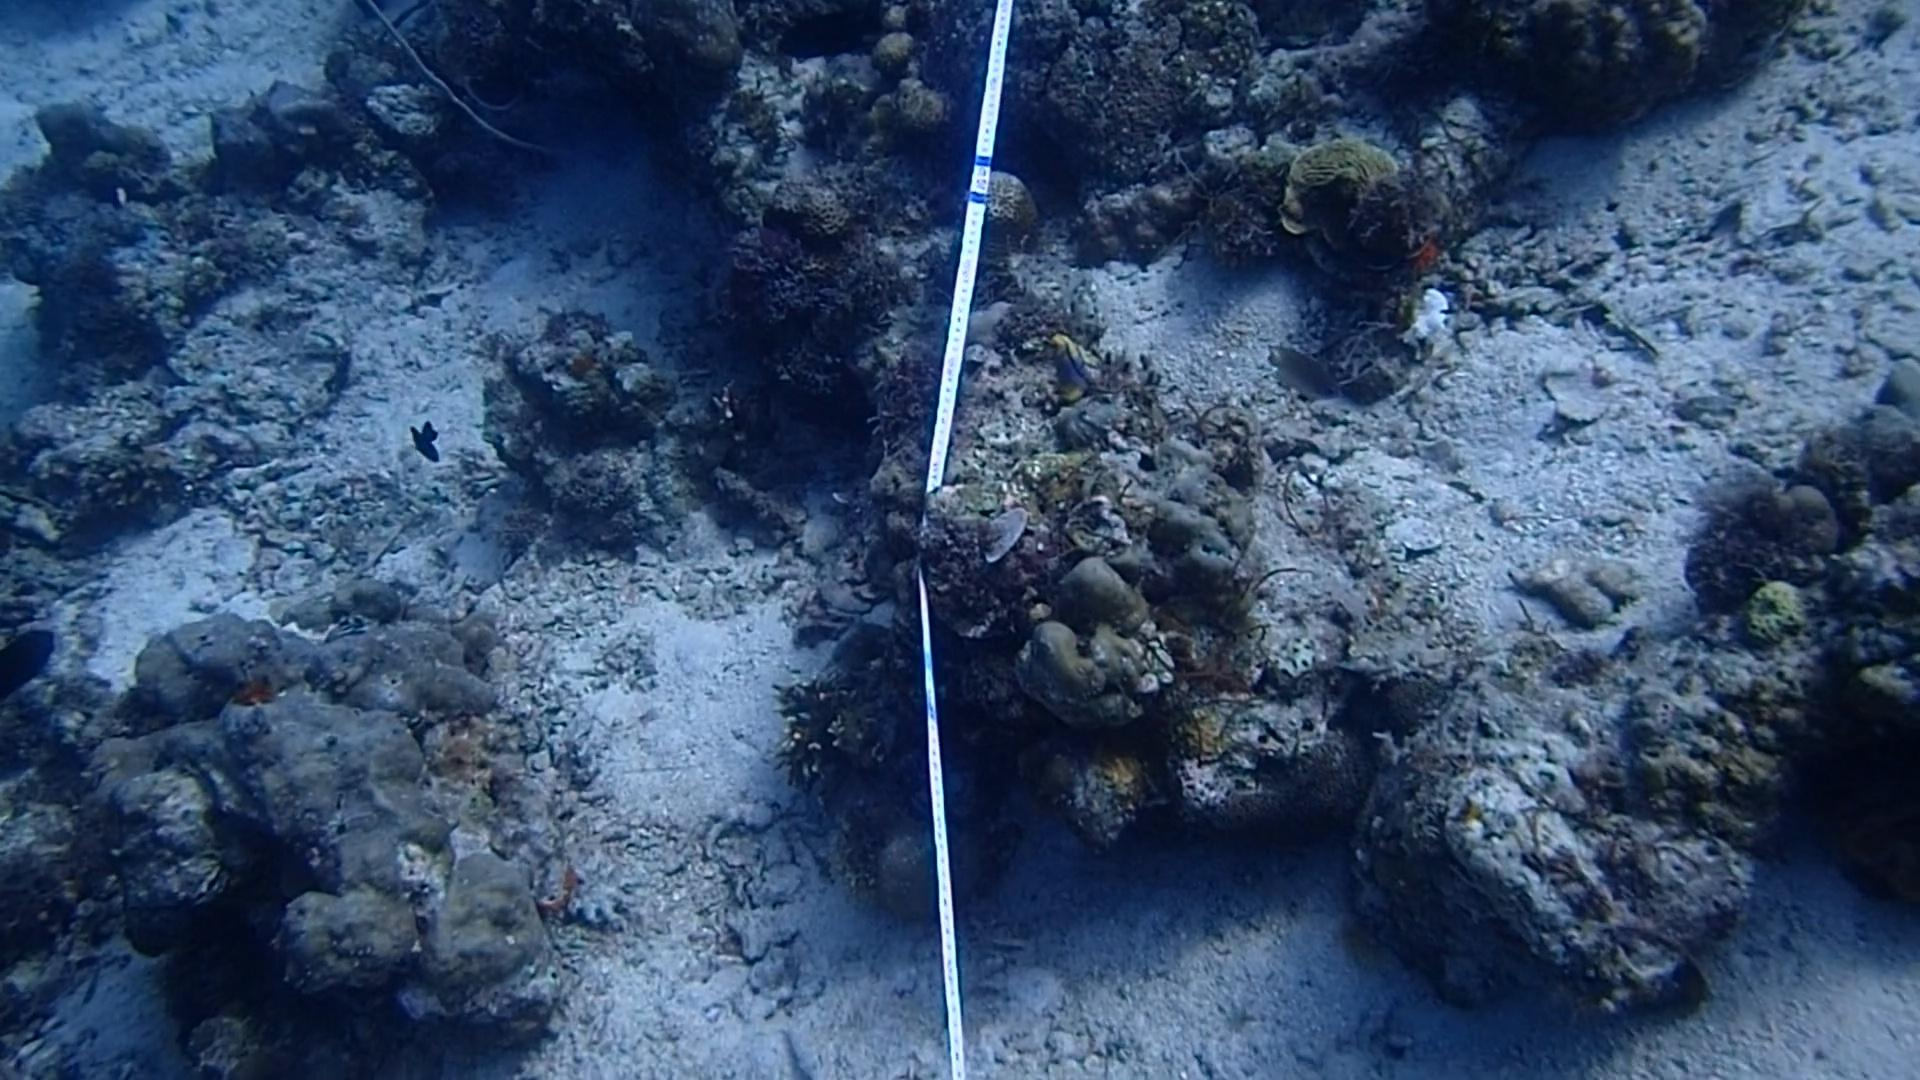Dark Fish: (774, 4, 890, 69), (0, 620, 58, 704), (406, 417, 454, 476)
Light Fish: (1261, 343, 1342, 404)
